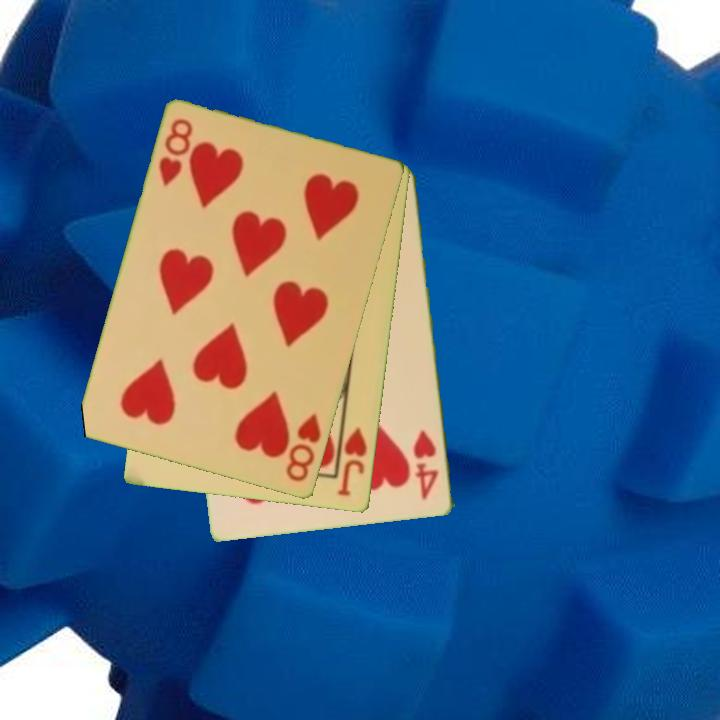4h: (411, 427, 442, 503)
8h: (282, 410, 325, 485), (155, 116, 196, 190)
Jh: (334, 416, 371, 500)
